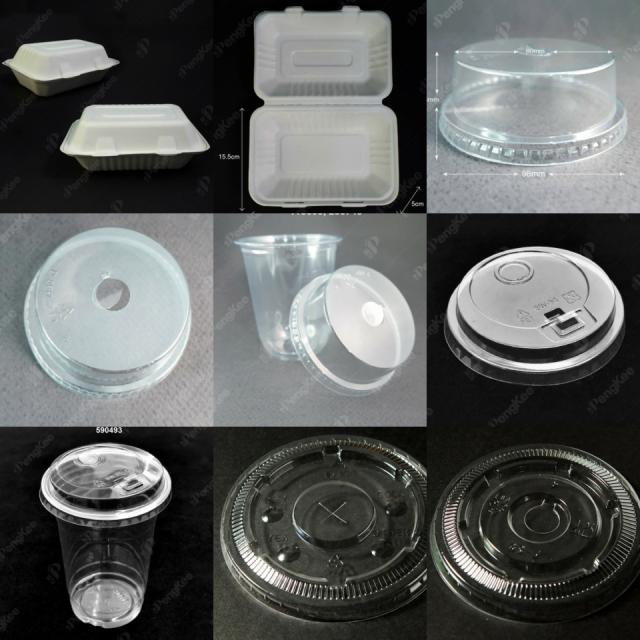Single-Use-Plastic: (222, 435, 428, 621), (431, 444, 640, 622), (250, 6, 399, 207), (24, 228, 191, 398), (445, 246, 625, 385), (40, 444, 171, 629), (439, 38, 628, 165), (290, 265, 415, 396), (234, 234, 341, 361), (60, 105, 210, 171), (2, 39, 119, 96)
